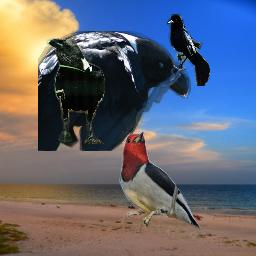Crow: (38, 31, 191, 151), (46, 38, 105, 144), (167, 14, 210, 86)
Woodpecker: (116, 126, 206, 240)
